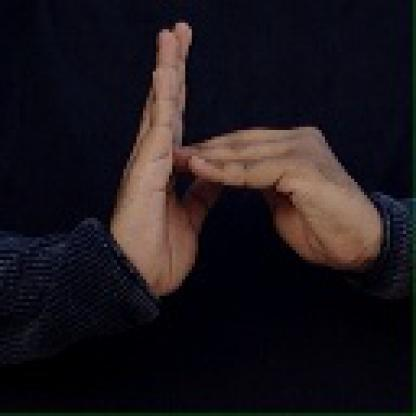Z: (103, 15, 355, 274)
